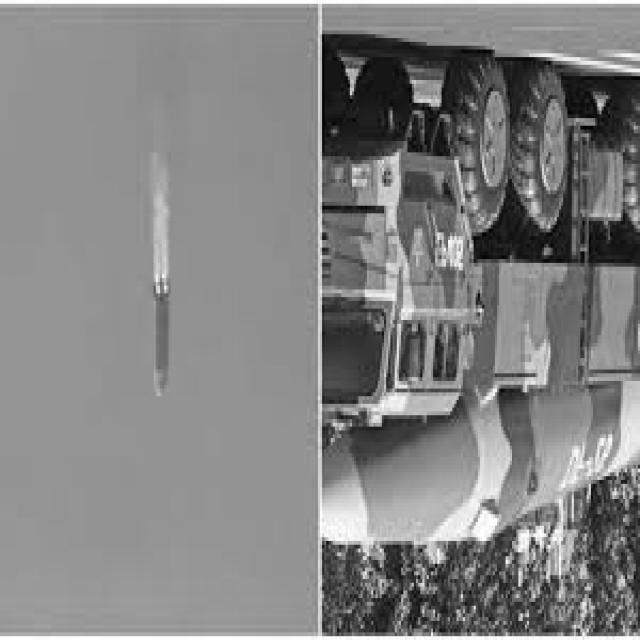Missile: (149, 268, 175, 401)
